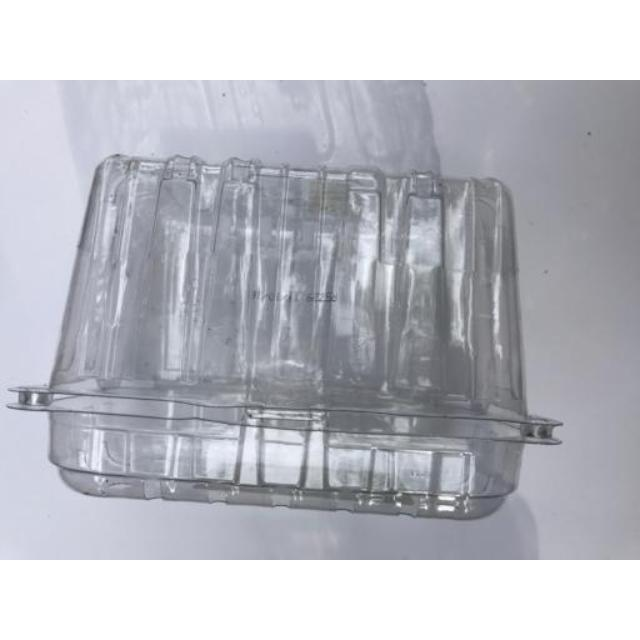plastic: (9, 155, 561, 519)
